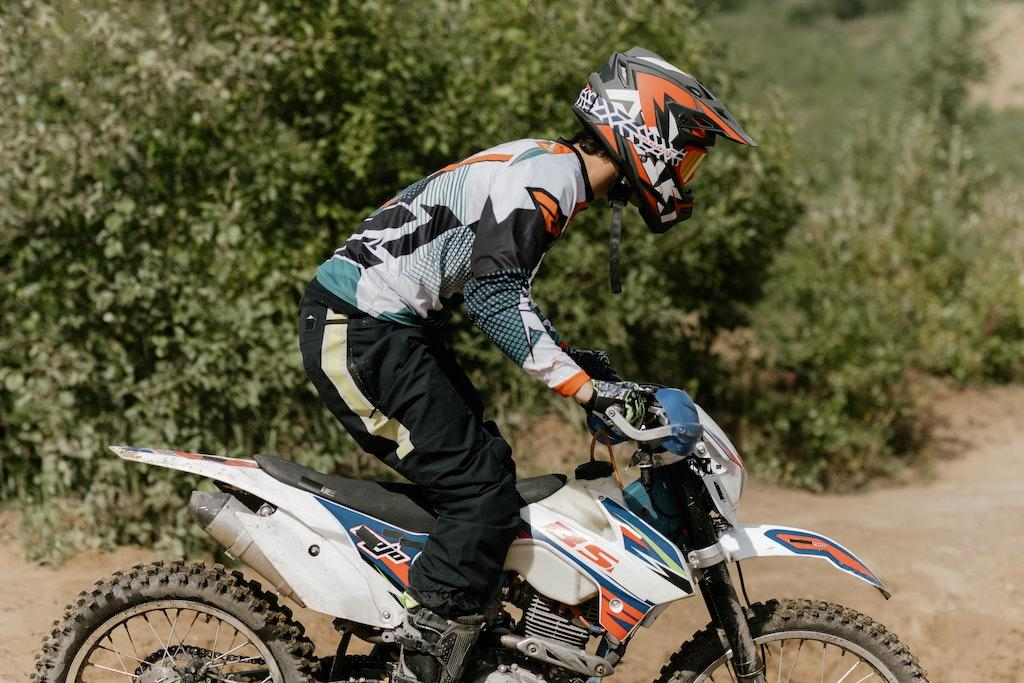helmet: (570, 44, 759, 235)
